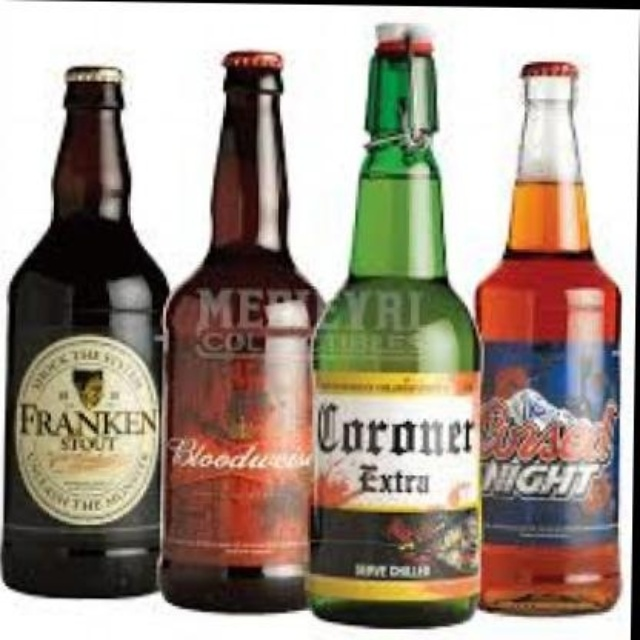trash: (309, 25, 478, 625), (162, 52, 318, 609), (3, 66, 166, 595), (477, 62, 618, 614)
